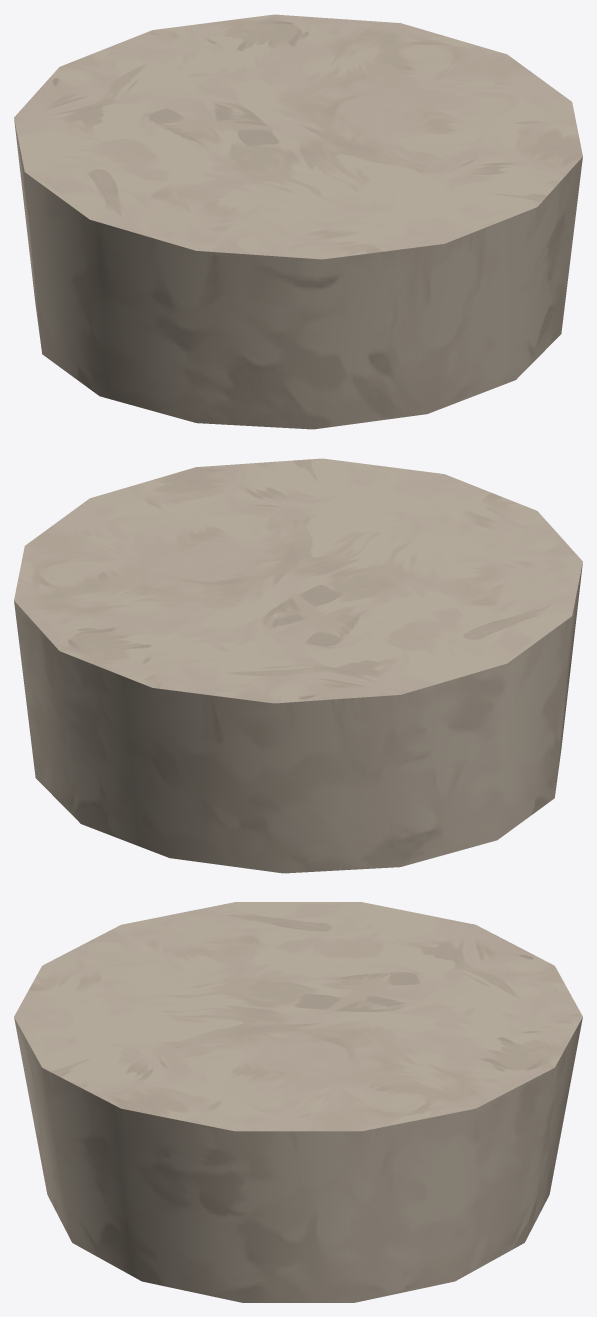
File: kolumna_czesc_top.obj
3 views of the same model, one above another, from view 1: azimuth 30°, elevation 25°; view 2: azimuth 150°, elevation 25°; view 3: azimuth 270°, elevation 25° (orthographic). The views are drawn at different scales.
Parts seen in each view (by area): view 1: Cylinder.002; view 2: Cylinder.002; view 3: Cylinder.002.
Part boxes in pixels (<box>): Cylinder.002: <box>14,14,582,429</box>; Cylinder.002: <box>14,458,582,873</box>; Cylinder.002: <box>14,902,582,1302</box>.
Bounding box in the file's own units: 5.62 × 2.03 × 5.89.
1 material, 1 textured.
